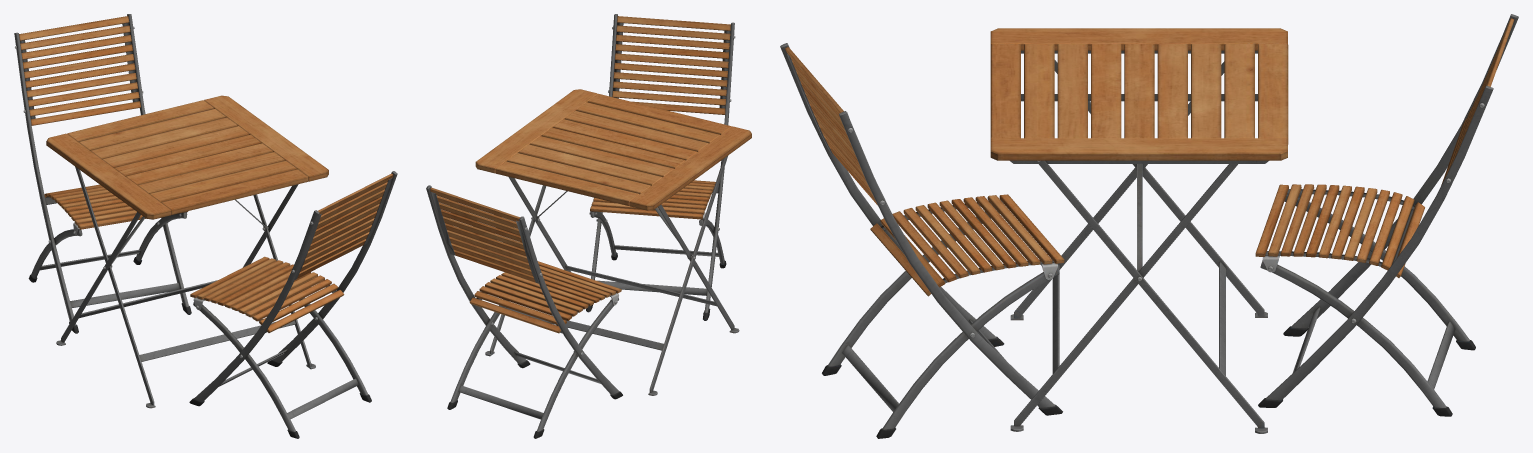
Rendered from outdoor_table_chair_set_01.glb.
The picture shows the model from 3 angles, left to right: view 1: azimuth 30°, elevation 25°; view 2: azimuth 150°, elevation 25°; view 3: azimuth 270°, elevation 25°; orthographic projection. The views are drawn at different scales.
Visible parts, largest first — view 1: outdoor_table_chair_set_01_chair_01, outdoor_table_chair_set_01_table; view 2: outdoor_table_chair_set_01_chair_01, outdoor_table_chair_set_01_table; view 3: outdoor_table_chair_set_01_table, outdoor_table_chair_set_01_chair_01.
Boxes of the visible parts, x1,y1,x2,y2 form: outdoor_table_chair_set_01_chair_01: (14,14,397,438); outdoor_table_chair_set_01_table: (46,95,328,408); outdoor_table_chair_set_01_chair_01: (426,14,735,438); outdoor_table_chair_set_01_table: (475,89,751,395); outdoor_table_chair_set_01_table: (990,28,1288,433); outdoor_table_chair_set_01_chair_01: (780,14,1518,438).
Bounding box in the file's own units: 0.7417 × 0.8583 × 1.72.
Materials: 2 (2 with a texture image).
